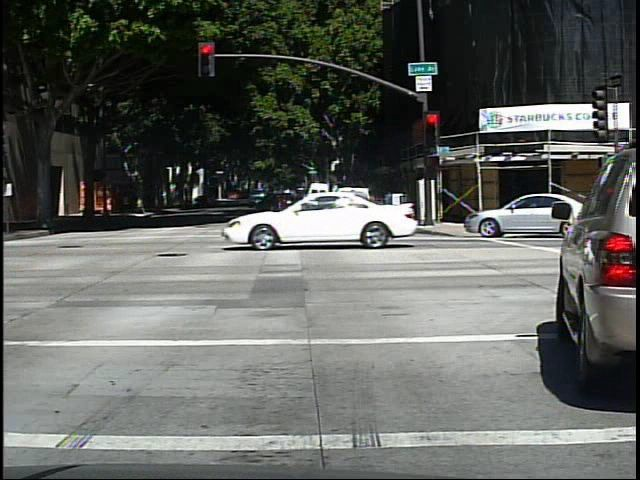person: (82, 186, 99, 220)
